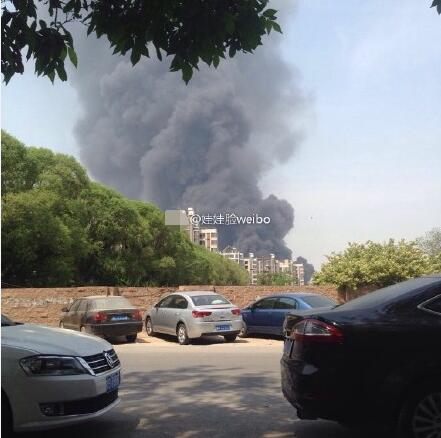smoke: (78, 52, 315, 259)
